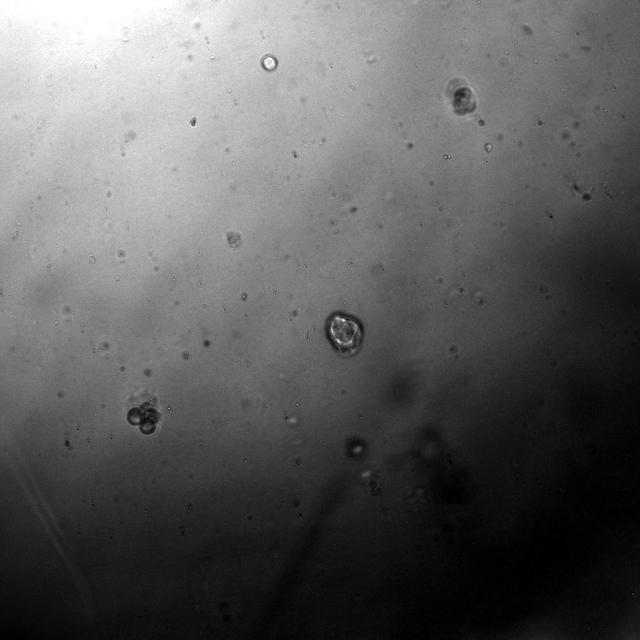organoid: (325, 311, 364, 356), (443, 76, 479, 116), (125, 402, 160, 435), (260, 54, 278, 71)
